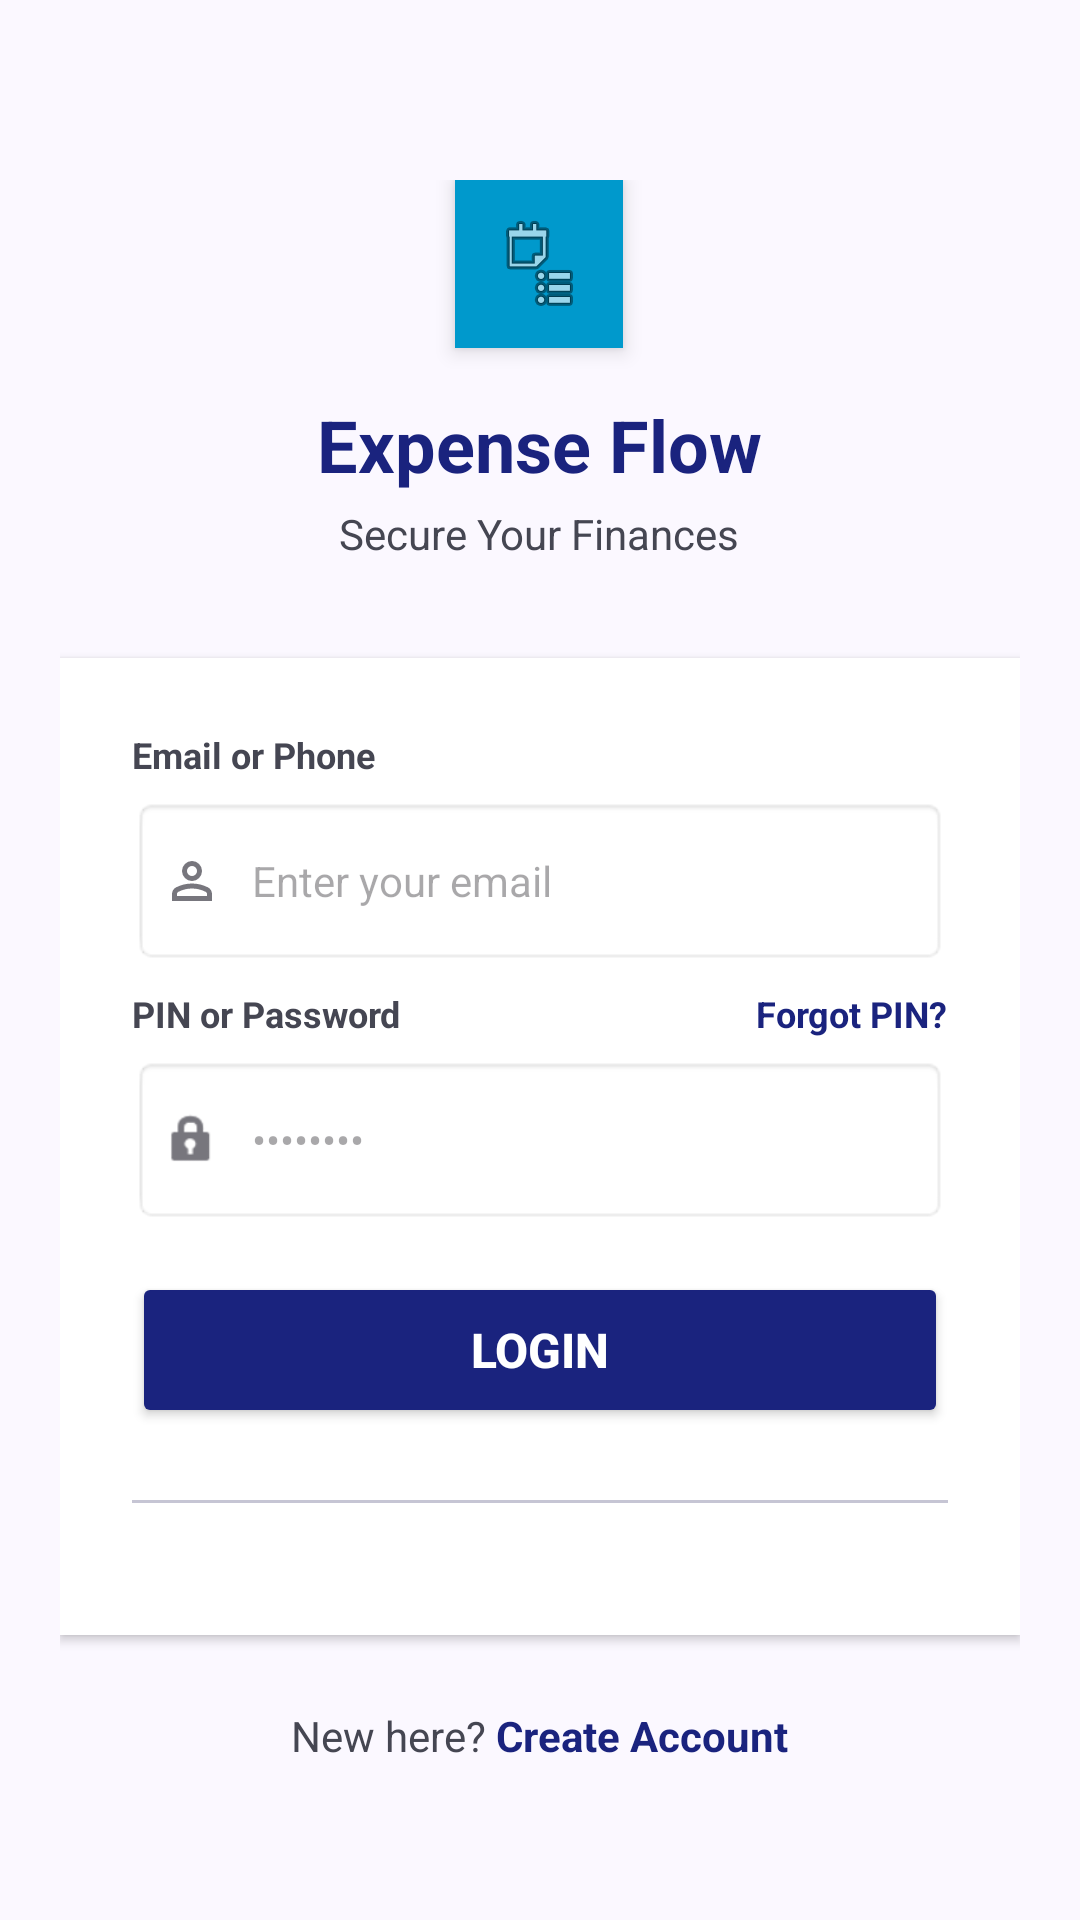

Icons on this 1080px x 1920px Android screen, each with the point to tap as point (x, y):
agenda: point (539, 263)
lock idle: point (190, 1138)
person: point (192, 881)
